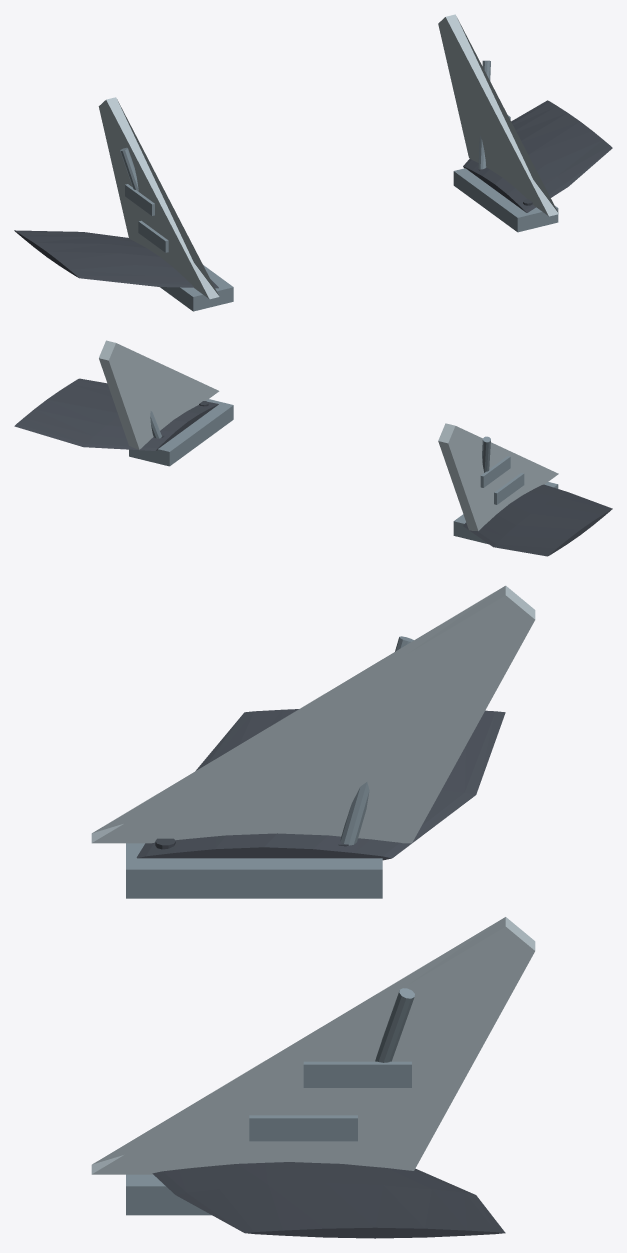
The model's file is fins_2_v2.glb.
3 renders of one model, top to bottom at view 1: azimuth 30°, elevation 25°; view 2: azimuth 150°, elevation 25°; view 3: azimuth 270°, elevation 25°, orthographic. The views are drawn at different scales.
Parts seen in each view (by area): view 1: TAIL_STARBOARD_SWEPT_STABILIZER, TAIL_PORT_SWEPT_STABILIZER, TAIL_STARBOARD_LATERAL_VANE, TAIL_PORT_LATERAL_VANE, TAIL_STARBOARD_BOLTED_PEDESTAL, TAIL_PORT_BOLTED_PEDESTAL, TAIL_PORT_ARMOR_RIB_0, TAIL_PORT_ARMOR_RIB_1; view 2: TAIL_STARBOARD_SWEPT_STABILIZER, TAIL_STARBOARD_LATERAL_VANE, TAIL_PORT_LATERAL_VANE, TAIL_PORT_SWEPT_STABILIZER, TAIL_STARBOARD_BOLTED_PEDESTAL, TAIL_PORT_ARMOR_RIB_0, TAIL_PORT_BOLTED_PEDESTAL, TAIL_PORT_ARMOR_RIB_1; view 3: TAIL_PORT_SWEPT_STABILIZER, TAIL_STARBOARD_SWEPT_STABILIZER, TAIL_STARBOARD_LATERAL_VANE, TAIL_PORT_BOLTED_PEDESTAL, TAIL_PORT_LATERAL_VANE, TAIL_STARBOARD_ARMOR_RIB_0, TAIL_STARBOARD_ARMOR_RIB_1, TAIL_STARBOARD_BOLTED_PEDESTAL, TAIL_STARBOARD_LOAD_BRACE, TAIL_PORT_LOAD_BRACE.
Boxes of the visible parts, x1=… form: TAIL_STARBOARD_SWEPT_STABILIZER: x1=438, y1=14, x2=558, y2=216; TAIL_PORT_SWEPT_STABILIZER: x1=98, y1=97, x2=219, y2=299; TAIL_STARBOARD_LATERAL_VANE: x1=463, y1=100, x2=612, y2=212; TAIL_PORT_LATERAL_VANE: x1=14, y1=230, x2=218, y2=288; TAIL_STARBOARD_BOLTED_PEDESTAL: x1=453, y1=168, x2=558, y2=232; TAIL_PORT_BOLTED_PEDESTAL: x1=160, y1=265, x2=233, y2=311; TAIL_PORT_ARMOR_RIB_0: x1=138, y1=220, x2=168, y2=252; TAIL_PORT_ARMOR_RIB_1: x1=125, y1=184, x2=154, y2=215; TAIL_STARBOARD_SWEPT_STABILIZER: x1=99, y1=340, x2=219, y2=449; TAIL_STARBOARD_LATERAL_VANE: x1=14, y1=378, x2=218, y2=450; TAIL_PORT_LATERAL_VANE: x1=463, y1=484, x2=612, y2=556; TAIL_PORT_SWEPT_STABILIZER: x1=438, y1=423, x2=558, y2=530; TAIL_STARBOARD_BOLTED_PEDESTAL: x1=129, y1=399, x2=233, y2=466; TAIL_PORT_ARMOR_RIB_0: x1=494, y1=473, x2=524, y2=504; TAIL_PORT_BOLTED_PEDESTAL: x1=453, y1=482, x2=558, y2=544; TAIL_PORT_ARMOR_RIB_1: x1=480, y1=456, x2=510, y2=487; TAIL_PORT_SWEPT_STABILIZER: x1=91, y1=585, x2=535, y2=843; TAIL_STARBOARD_SWEPT_STABILIZER: x1=91, y1=917, x2=535, y2=1174; TAIL_STARBOARD_LATERAL_VANE: x1=152, y1=1162, x2=505, y2=1238; TAIL_PORT_BOLTED_PEDESTAL: x1=126, y1=843, x2=382, y2=898; TAIL_PORT_LATERAL_VANE: x1=136, y1=709, x2=505, y2=860; TAIL_STARBOARD_ARMOR_RIB_0: x1=249, y1=1115, x2=357, y2=1141; TAIL_STARBOARD_ARMOR_RIB_1: x1=303, y1=1061, x2=411, y2=1087; TAIL_STARBOARD_BOLTED_PEDESTAL: x1=126, y1=1174, x2=211, y2=1215; TAIL_STARBOARD_LOAD_BRACE: x1=375, y1=988, x2=414, y2=1062; TAIL_PORT_LOAD_BRACE: x1=340, y1=636, x2=413, y2=845.
Bounding box in the file's own units: 2.5 × 0.6295 × 0.9.
